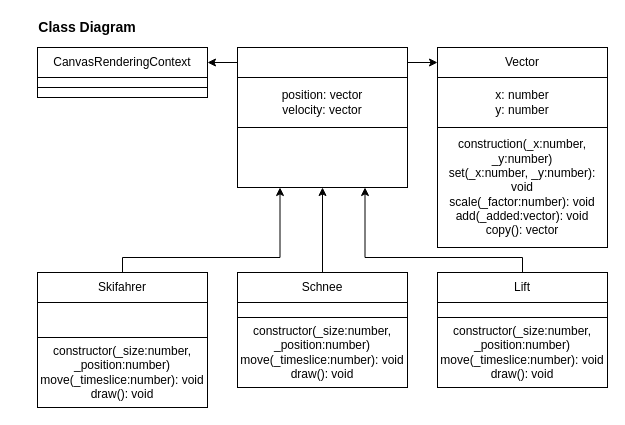
The diagram is 625 pixels wide and 425 high, and some of its shapes have lost their labels. Here are the shapes that lost their labels. From the top down, the box of each, then its label:
(236, 46, 408, 78): Moveable
(236, 126, 408, 188): constructor(_position:vector) move(_timeslice:number): void draw(): void
(36, 302, 208, 338): color: string
